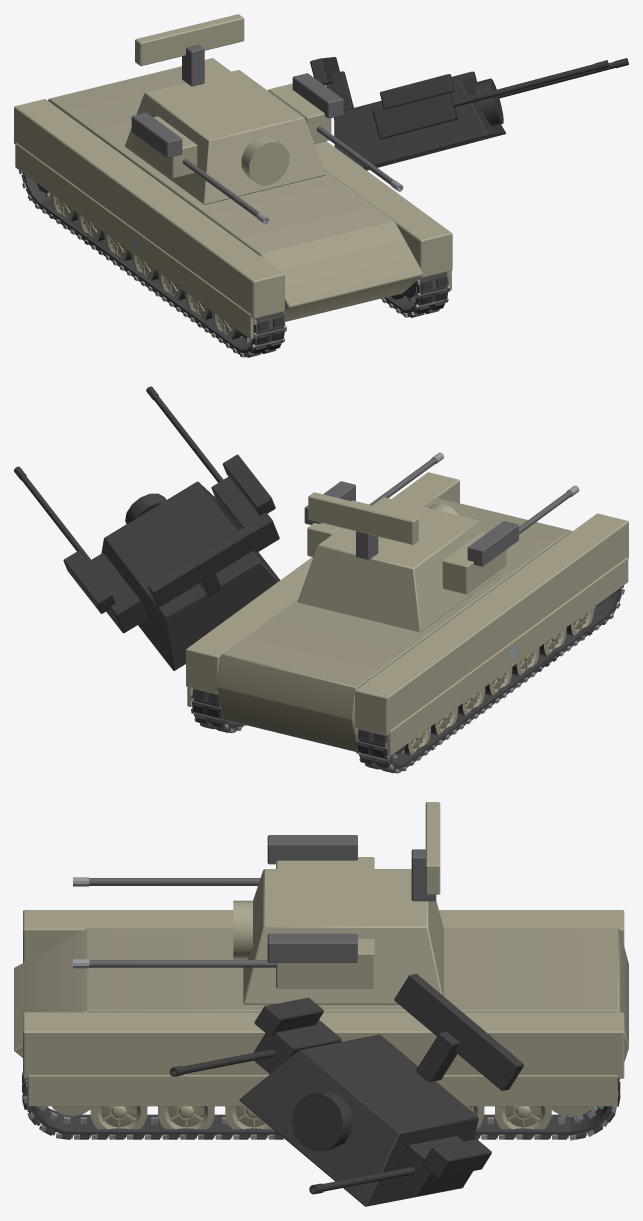
Rendered from aaVehicle__gepard_strela_10.glb.
3 renders of one model, top to bottom at view 1: azimuth 30°, elevation 25°; view 2: azimuth 150°, elevation 25°; view 3: azimuth 270°, elevation 25°, orthographic. The views are drawn at different scales.
Visible parts, largest first — view 1: Hull_Mesh, Turret_Mesh, Wreck, Gun_Mesh, Track_L_Mesh, Track_R_Mesh; view 2: Hull_Mesh, Wreck, Turret_Mesh, Gun_Mesh, Track_L_Mesh, Track_R_Mesh; view 3: Hull_Mesh, Wreck, Turret_Mesh, Gun_Mesh, Track_R_Mesh, Wheel_R6_Mesh, Wheel_R5_Mesh, Wheel_R0_Mesh, Wheel_R4_Mesh.
Part boxes in pixels (x1=…): Hull_Mesh: x1=14, y1=58, x2=452, y2=339; Turret_Mesh: x1=124, y1=14, x2=325, y2=204; Wreck: x1=20, y1=57, x2=628, y2=356; Gun_Mesh: x1=131, y1=73, x2=403, y2=224; Track_L_Mesh: x1=19, y1=170, x2=286, y2=357; Track_R_Mesh: x1=381, y1=272, x2=450, y2=317; Hull_Mesh: x1=186, y1=472, x2=628, y2=755; Wreck: x1=14, y1=386, x2=623, y2=772; Turret_Mesh: x1=298, y1=492, x2=500, y2=632; Gun_Mesh: x1=304, y1=452, x2=579, y2=594; Track_L_Mesh: x1=356, y1=585, x2=624, y2=773; Track_R_Mesh: x1=190, y1=689, x2=246, y2=732; Hull_Mesh: x1=14, y1=910, x2=628, y2=1106; Wreck: x1=22, y1=974, x2=620, y2=1206; Turret_Mesh: x1=233, y1=802, x2=443, y2=1004; Gun_Mesh: x1=73, y1=835, x2=374, y2=988; Track_R_Mesh: x1=22, y1=1072, x2=620, y2=1140; Wheel_R6_Mesh: x1=90, y1=1106, x2=147, y2=1136; Wheel_R5_Mesh: x1=158, y1=1106, x2=214, y2=1137; Wheel_R0_Mesh: x1=495, y1=1106, x2=551, y2=1137; Wheel_R4_Mesh: x1=225, y1=1106, x2=272, y2=1137.
Size of what is drawn, in the model's own units: 8.7 by 3.34 by 7.48.
